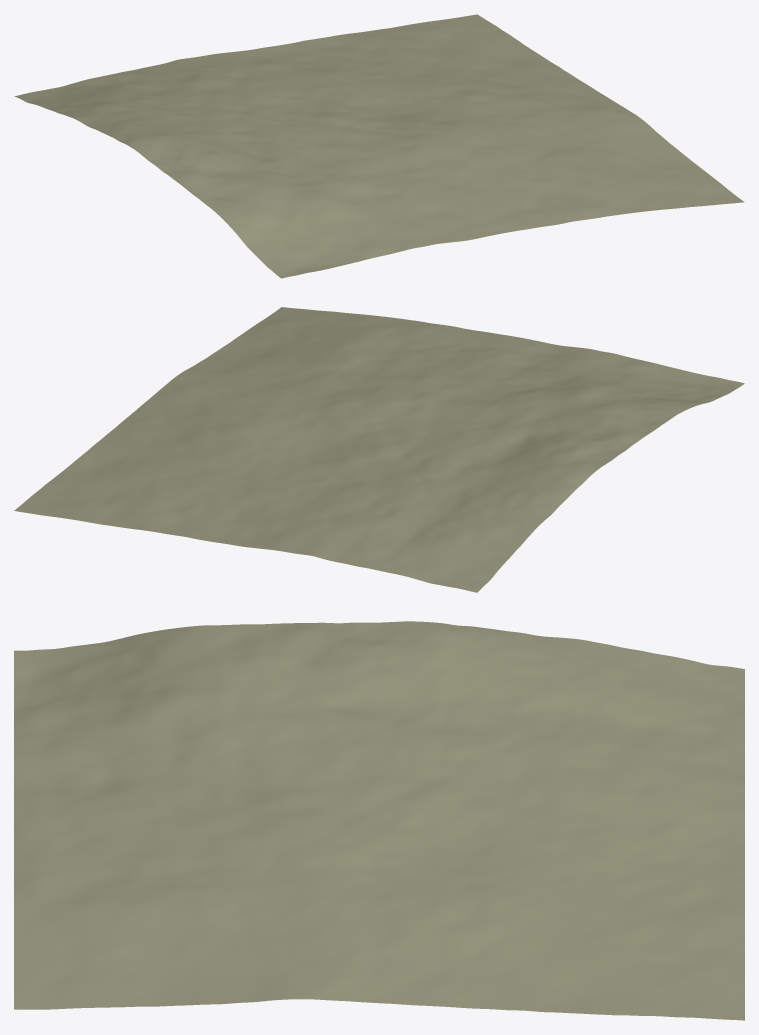
Rendered from SM_VB_CityTerrain_10_5.fbx.
3 renders of one model, top to bottom at view 1: azimuth 30°, elevation 25°; view 2: azimuth 150°, elevation 25°; view 3: azimuth 270°, elevation 25°, orthographic. The views are drawn at different scales.
Visible parts, largest first — view 1: SM_VB_CityTerrain_10_5; view 2: SM_VB_CityTerrain_10_5; view 3: SM_VB_CityTerrain_10_5.
Boxes of the visible parts, x1,y1,x2,y2 form: SM_VB_CityTerrain_10_5: (14, 14, 744, 278); SM_VB_CityTerrain_10_5: (14, 307, 744, 592); SM_VB_CityTerrain_10_5: (14, 621, 744, 1020).
Size of the model in its own units: 600 by 81.77 by 600.
